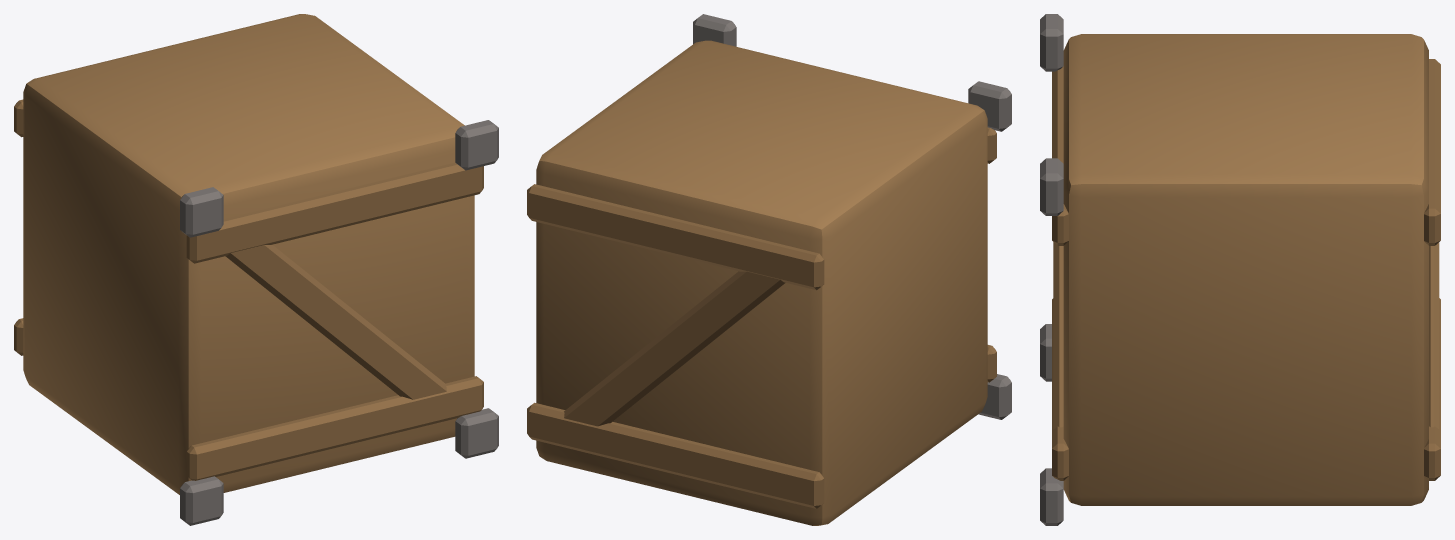
The model's file is crate.glb.
The picture shows the model from 3 angles, left to right: view 1: azimuth 30°, elevation 25°; view 2: azimuth 150°, elevation 25°; view 3: azimuth 270°, elevation 25°; orthographic projection. The views are drawn at different scales.
Parts seen in each view (by area): view 1: crate; view 2: crate; view 3: crate.
Boxes of the visible parts, left/top/right/bottom form: crate: left=14, top=14, right=498, bottom=525; crate: left=527, top=14, right=1011, bottom=525; crate: left=1040, top=14, right=1440, bottom=525.
Bounding box in the file's own units: 0.66 × 0.66 × 0.68.
